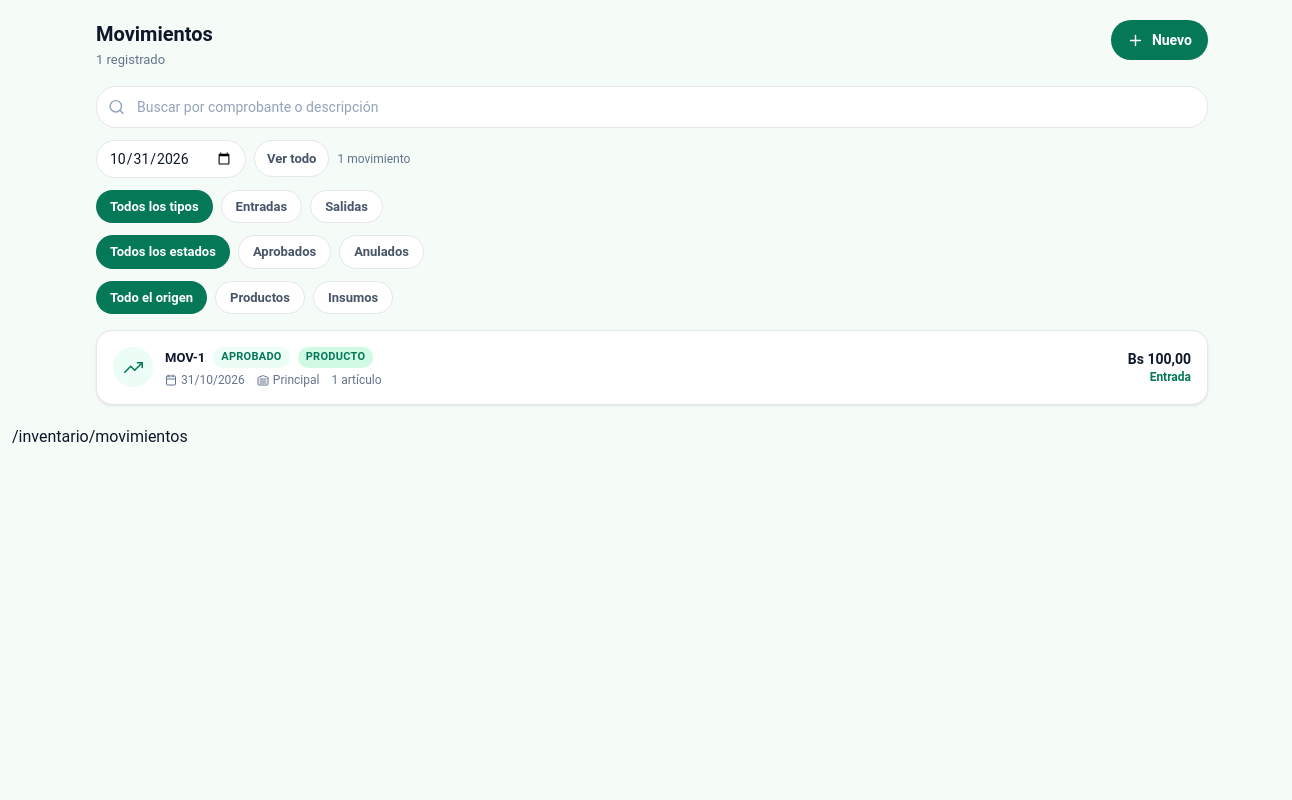
La lista arranca en hoy › con un texto escrito, sigue diciendo «Sin resultados»
Check: the text "MOV-1" is shown, box 165,348 -> 205,367
In the field with placeholder "Buscar por comprobante o descripción": (652, 106) 96,86 -> 1208,128, type "no existe"
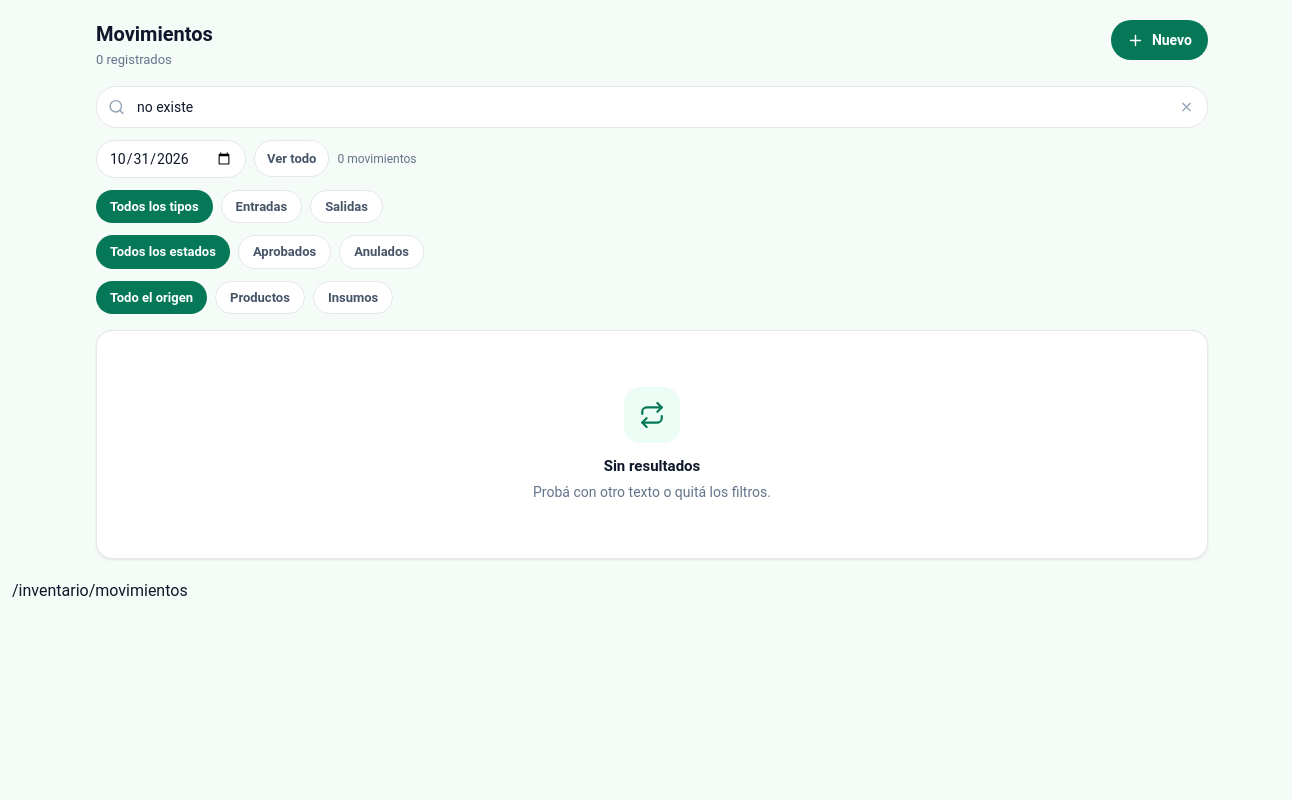
Check: the heading "Sin resultados" is shown, box 604,455 -> 700,478
